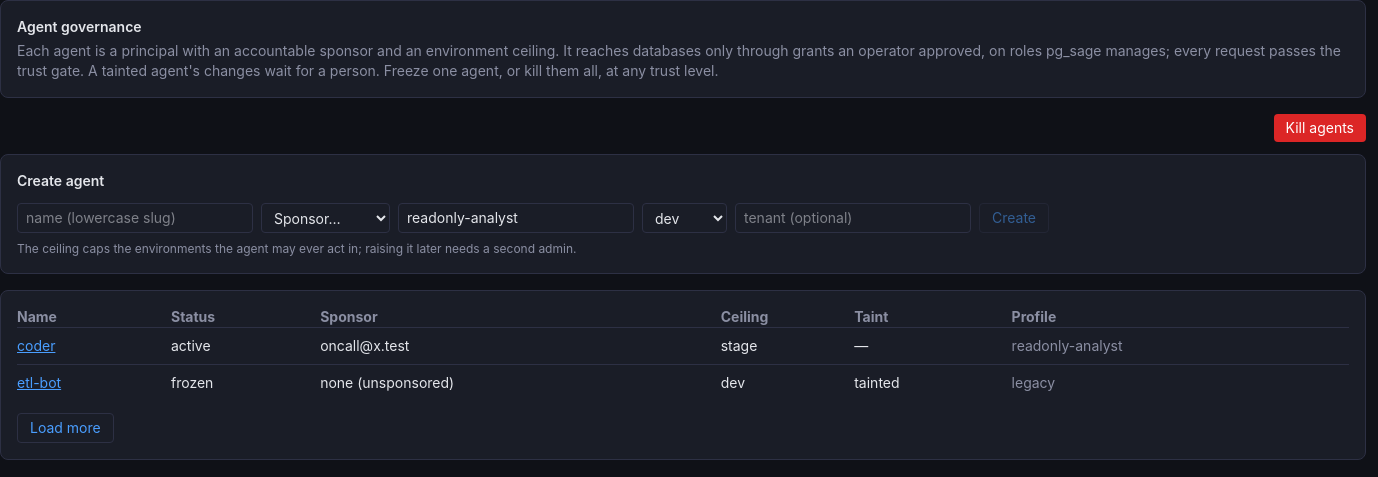
Test: AgentsPage list › pages with the cursor
Expected: the table with test id "agents-table" is shown, x1=17 y1=307 x2=1349 y2=401
Click the button with test id "agents-more". click: (65, 428)
box: x1=17 y1=413 x2=114 y2=443
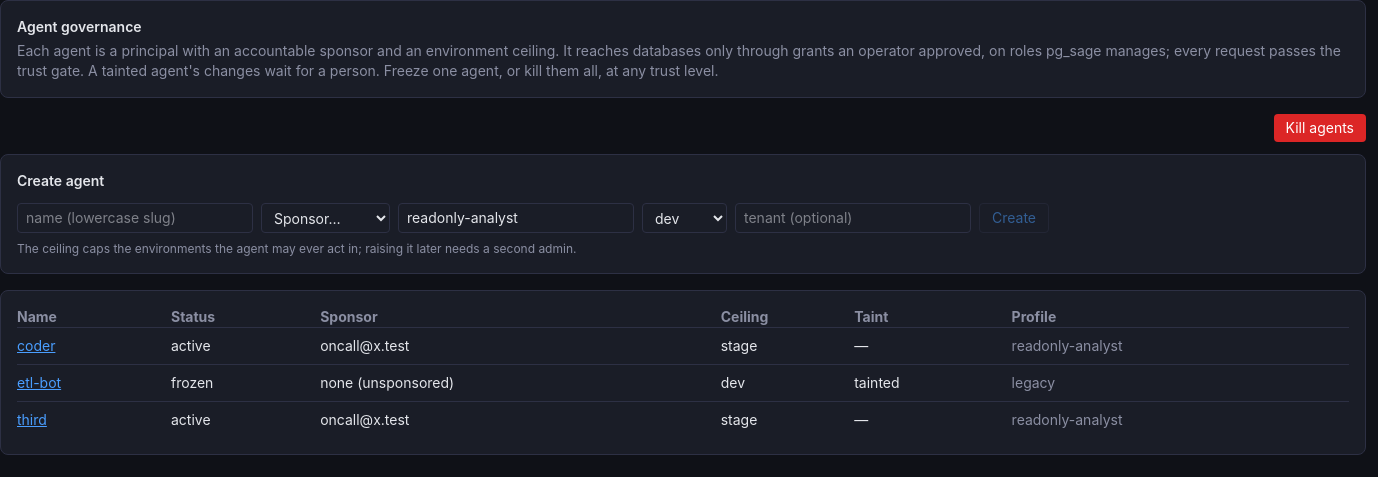
Expected: the row with test id "agent-row-coder" is shown, x1=17 y1=328 x2=1349 y2=364
Expected: the row with test id "agent-row-third" is shown, x1=17 y1=402 x2=1349 y2=438
Expected: the button with test id "agents-more" is gone
